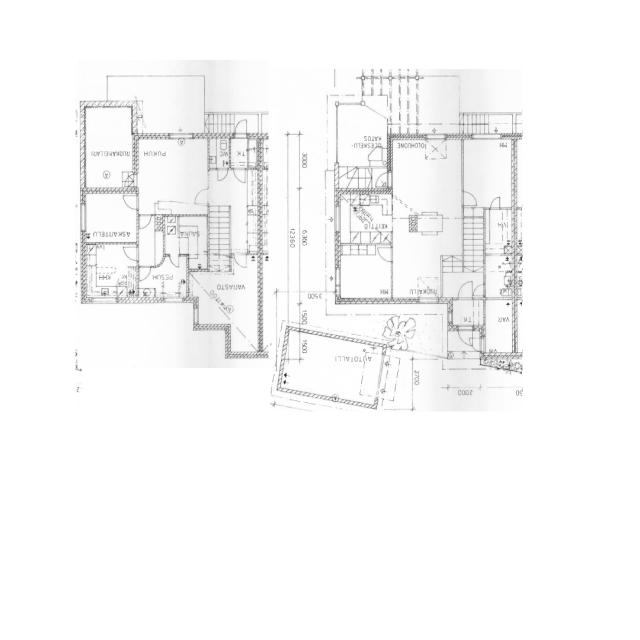door: (425, 134, 449, 160), (456, 325, 476, 348), (460, 188, 480, 209), (366, 144, 386, 165), (456, 279, 475, 300), (121, 192, 140, 212), (376, 244, 394, 264), (122, 242, 140, 262), (467, 332, 484, 353), (192, 186, 210, 205), (374, 170, 391, 190), (233, 118, 249, 138), (232, 166, 248, 185), (137, 213, 153, 231), (232, 252, 248, 270), (168, 253, 184, 270), (215, 166, 230, 184), (137, 265, 152, 282), (472, 282, 486, 299), (488, 195, 502, 211)
window: (467, 134, 507, 143), (78, 202, 88, 232), (333, 203, 342, 233), (333, 266, 342, 292), (170, 132, 193, 142)
zone: (136, 136, 211, 213), (391, 141, 464, 219), (83, 106, 135, 193), (337, 103, 388, 186), (462, 139, 515, 209), (337, 247, 392, 304), (83, 243, 136, 296), (338, 196, 393, 246), (82, 194, 139, 242), (482, 299, 517, 355), (381, 355, 411, 407), (179, 215, 210, 262), (485, 253, 515, 299), (486, 208, 515, 255), (229, 136, 259, 170), (207, 134, 230, 170)
